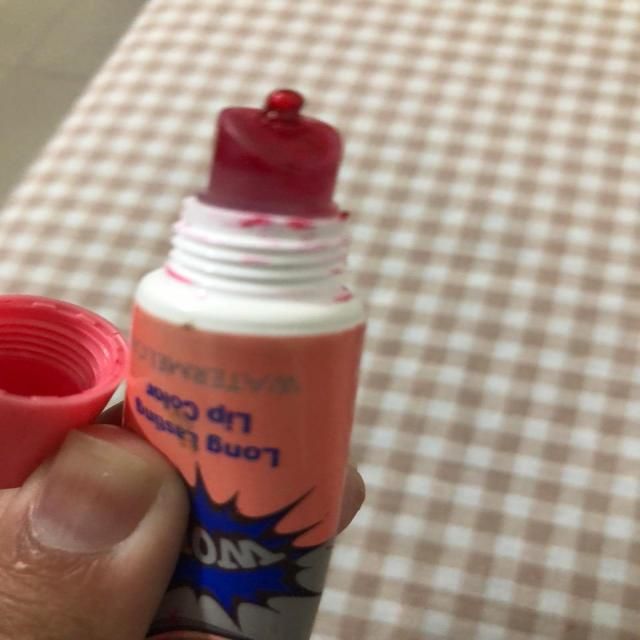lip balm: (54, 52, 383, 640)
